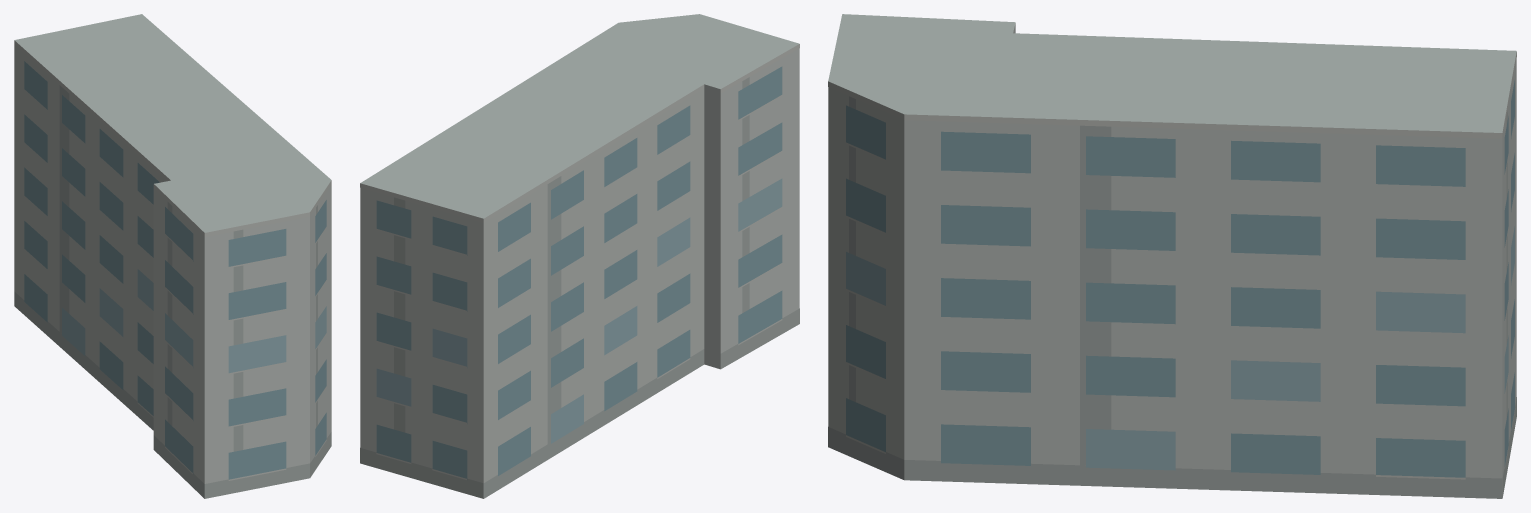
The model's file is survey-upis-32815760.glb.
The picture shows the model from 3 angles, left to right: view 1: azimuth 30°, elevation 25°; view 2: azimuth 150°, elevation 25°; view 3: azimuth 270°, elevation 25°; orthographic projection. The views are drawn at different scales.
Parts seen in each view (by area): view 1: survey-upis-32815760.tmp; view 2: survey-upis-32815760.tmp; view 3: survey-upis-32815760.tmp.
Boxes of the visible parts, bbox=[...] form: survey-upis-32815760.tmp: bbox=[14, 14, 331, 498]; survey-upis-32815760.tmp: bbox=[360, 14, 799, 498]; survey-upis-32815760.tmp: bbox=[828, 14, 1516, 498].
Bounding box in the file's own units: 10.76 × 15.4 × 26.28.
